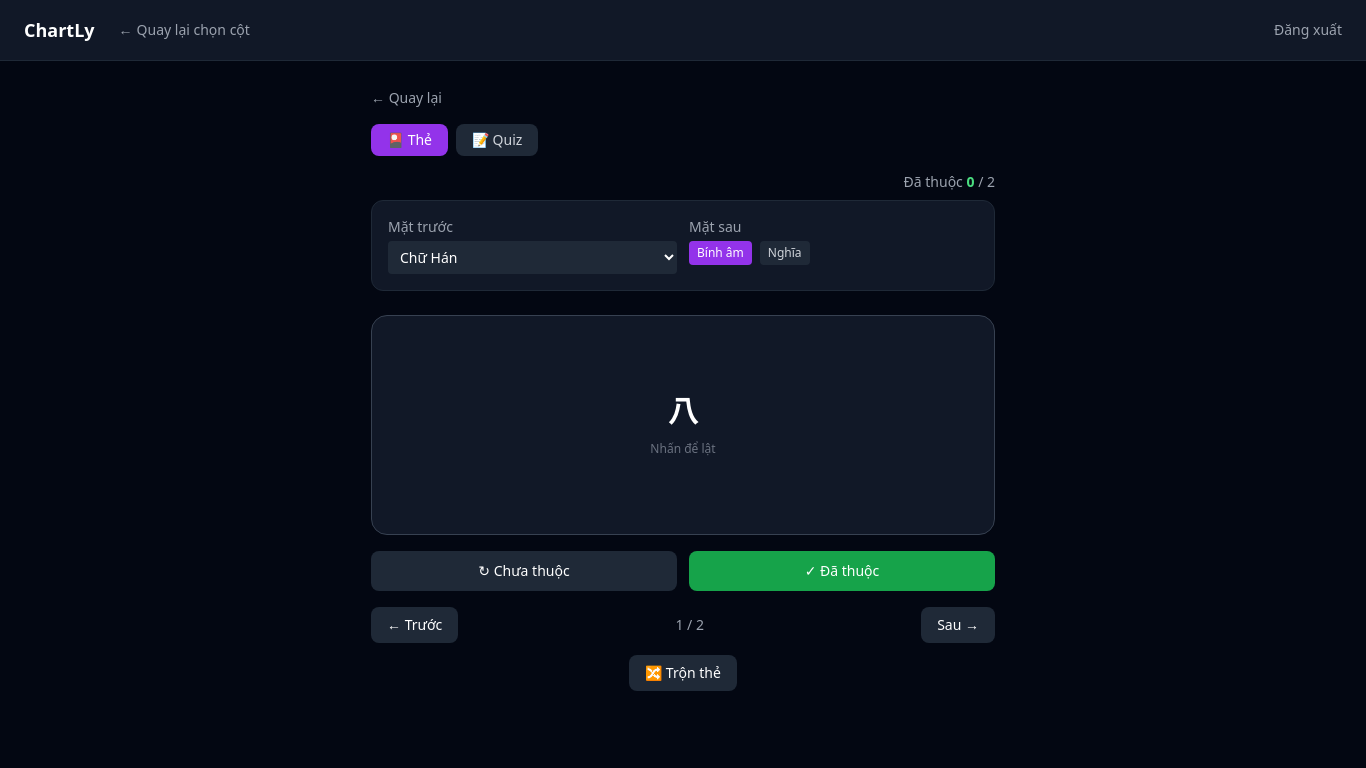
Test case: LearnPage › advances to the next card
Expected: the text "八" is shown, [668,393,698,429]
Click the button with aria-label "Thẻ sau": (958, 625) [921,607,995,643]
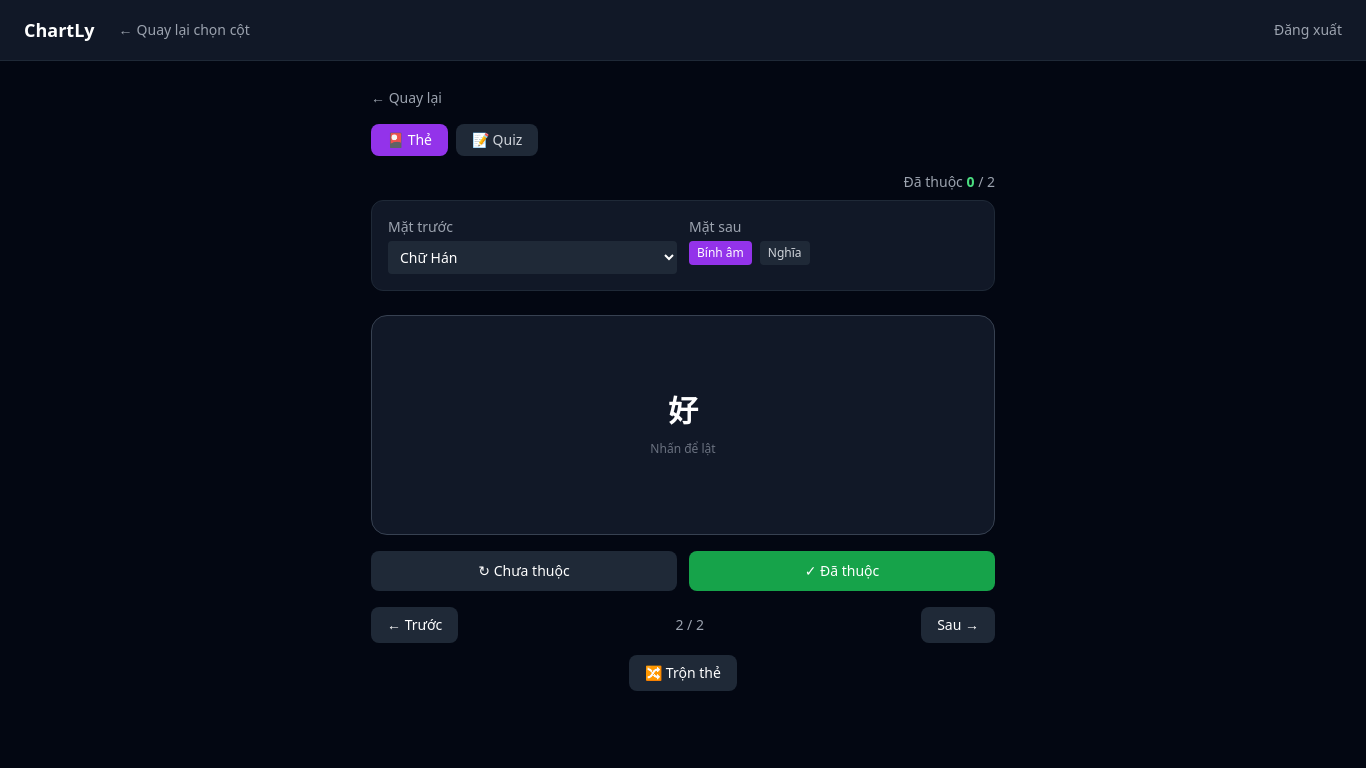
Now the text "好" is shown, box [668,393,698,429]
Now the text "2 / 2" is shown, box [676,615,704,635]
